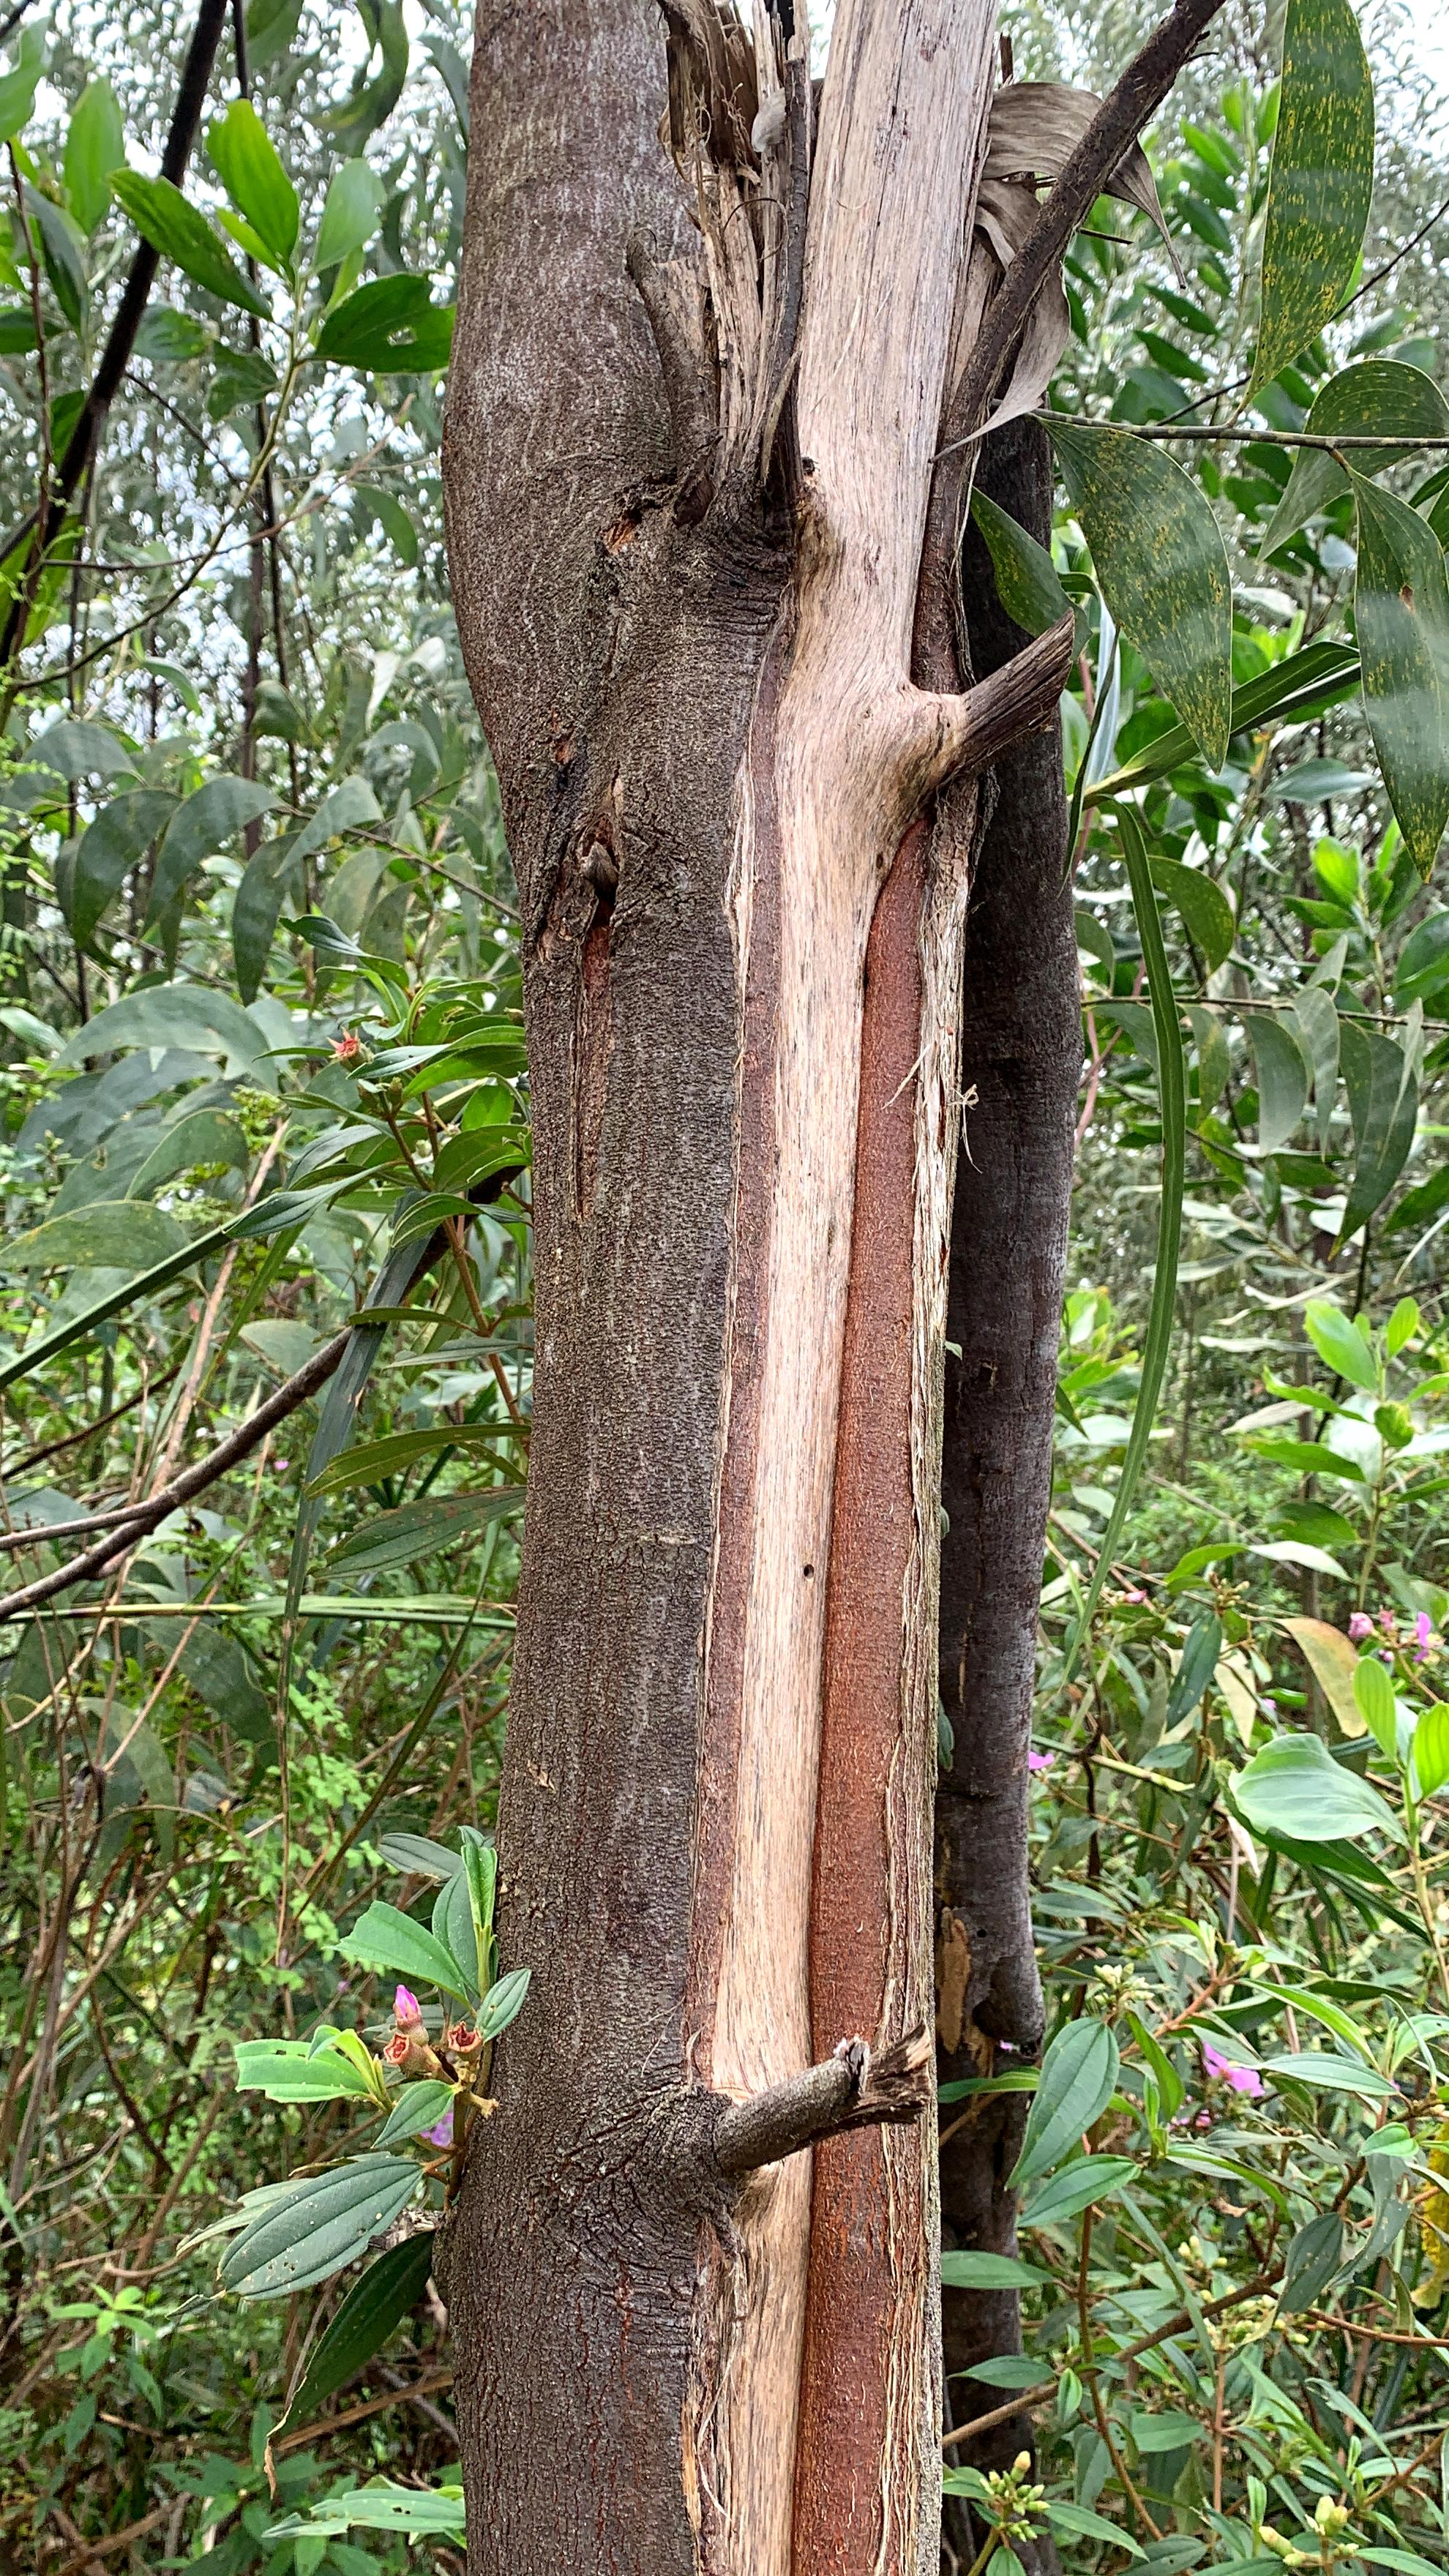Mammals Attack: (522, 0, 1031, 2576)
